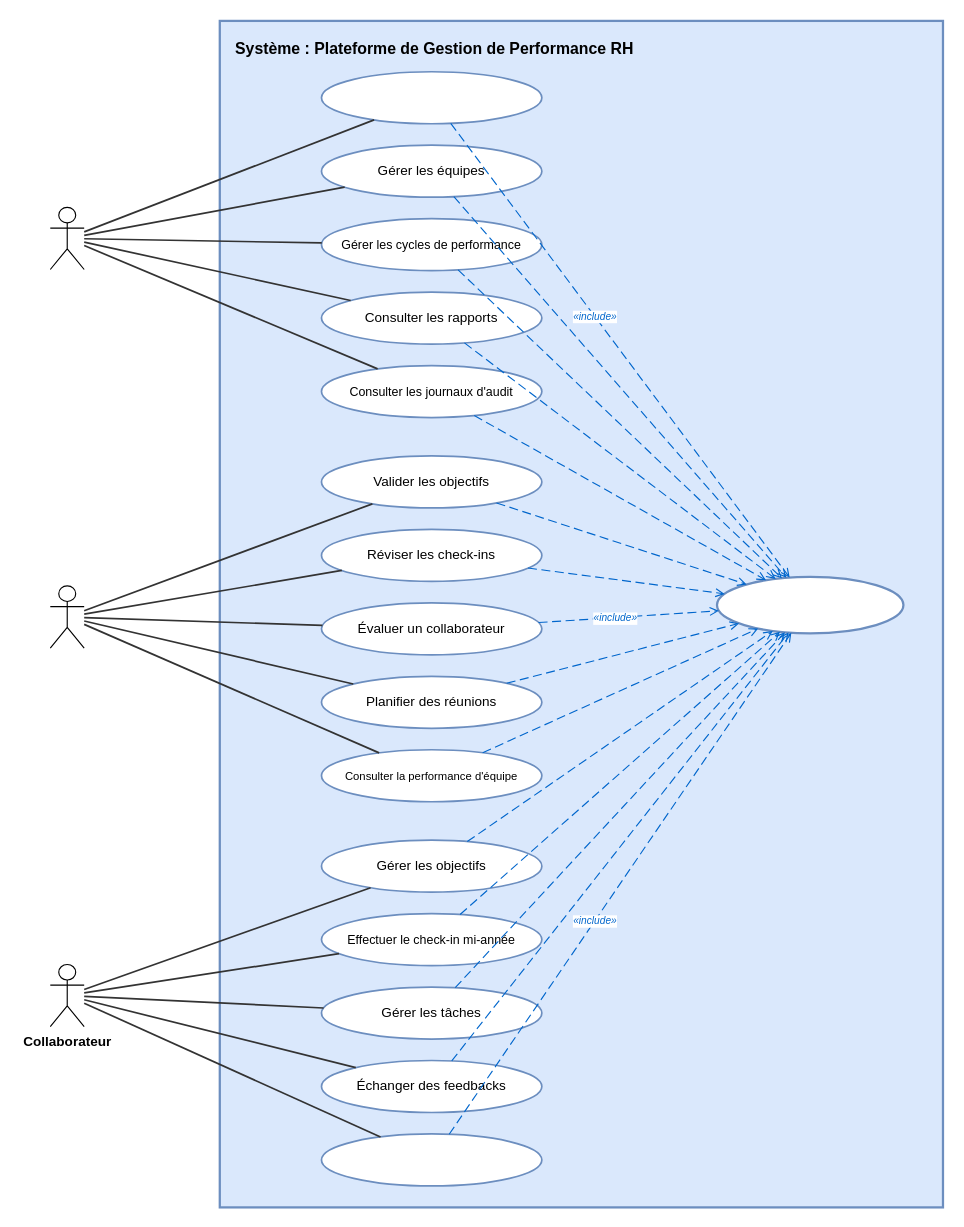
Image size: 964x1227. Some labels were removed from this diagram. The centre of each missing label's shape, as x and y in pixels:
"Administrateur" goes at [66,238].
"Chef d'Équipe" goes at [66,616].
"Consulter le calendrier" goes at [431,1159].
"Gérer les utilisateurs" goes at [431,97].
"S'authentifier" goes at [809,604].
